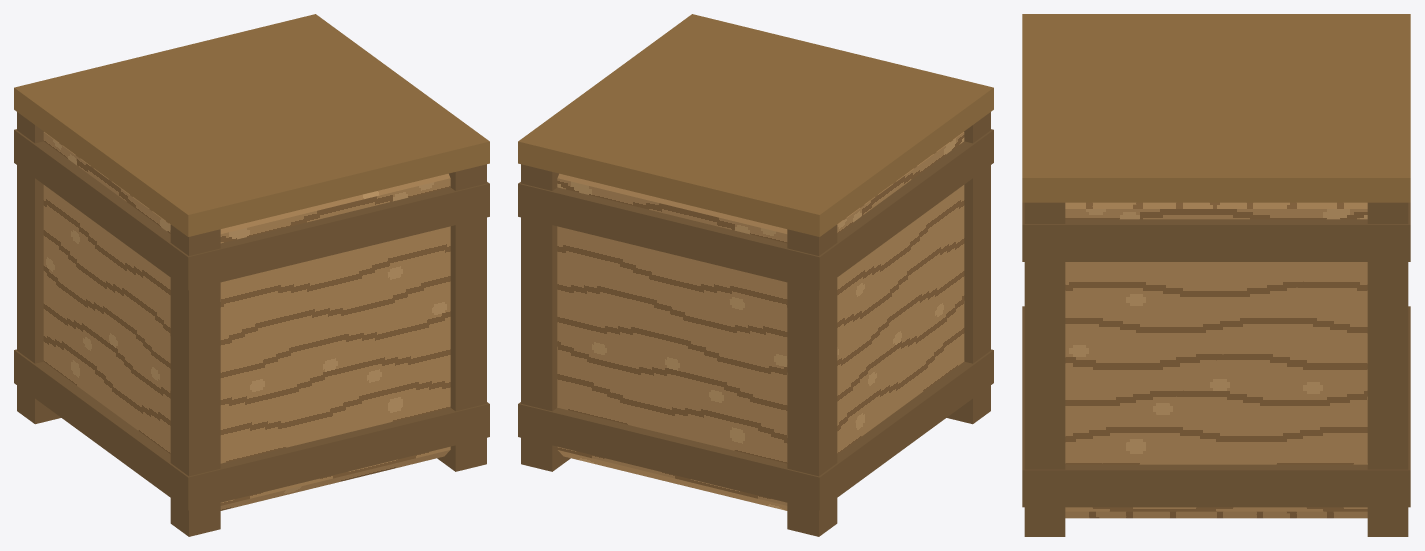
Rendered from crate.glb.
3 renders of one model, left to right at view 1: azimuth 30°, elevation 25°; view 2: azimuth 150°, elevation 25°; view 3: azimuth 270°, elevation 25°, orthographic. The views are drawn at different scales.
Visible parts, largest first — view 1: Crate; view 2: Crate; view 3: Crate.
Boxes of the visible parts, x1=… form: Crate: x1=14, y1=14, x2=489, y2=536; Crate: x1=518, y1=14, x2=993, y2=536; Crate: x1=1022, y1=14, x2=1410, y2=536.
Bounding box in the file's own units: 0.86 × 0.88 × 0.86.
Materials: 1 (1 with a texture image).
